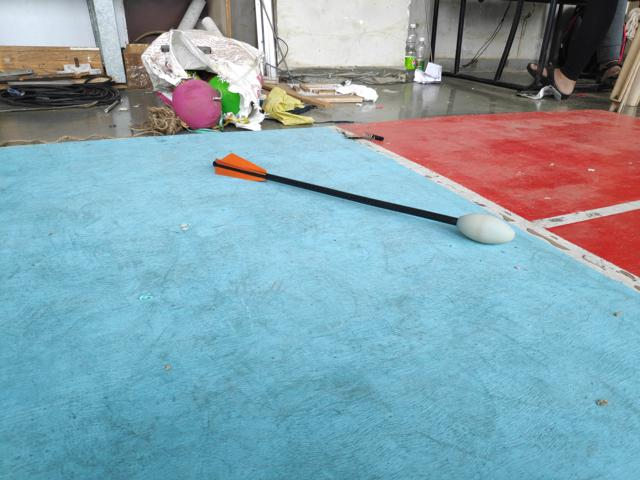Head: (455, 212, 518, 247)
Tail: (211, 151, 271, 182)
